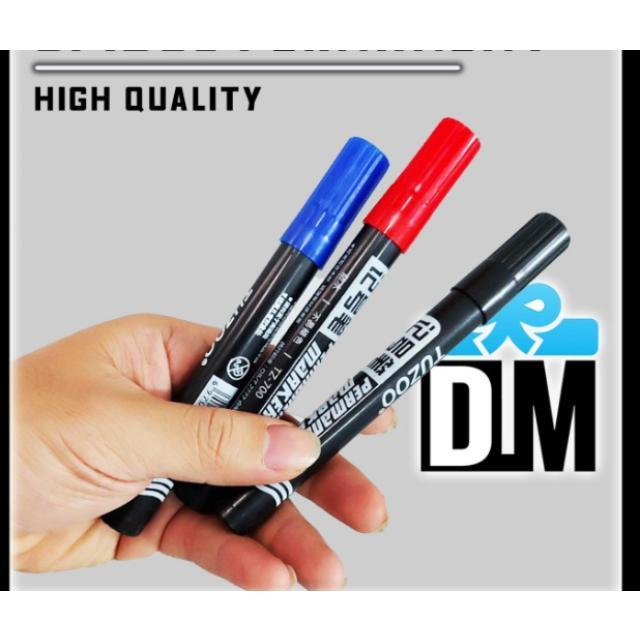marker: (228, 225, 557, 528)
